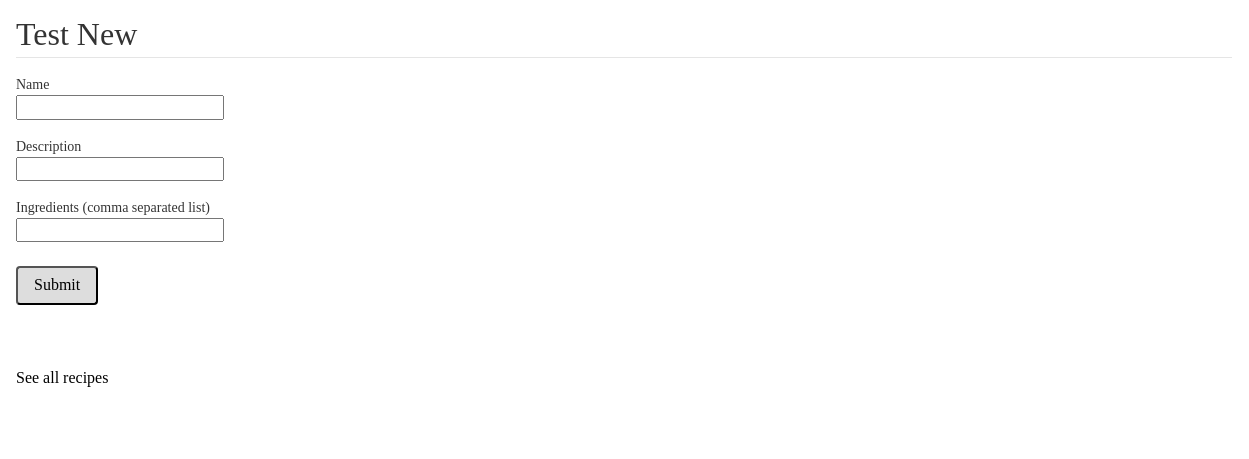
Test case: creates a new Recipe - happy path
Expected: the heading reads "Test New", x1=16 y1=16 x2=137 y2=52
Expected: the link reads "See all recipes", x1=16 y1=369 x2=124 y2=387
Step 1. Type "My favorite recipe" into the field labelled "Name" → (120, 107), box x1=16 y1=95 x2=224 y2=120
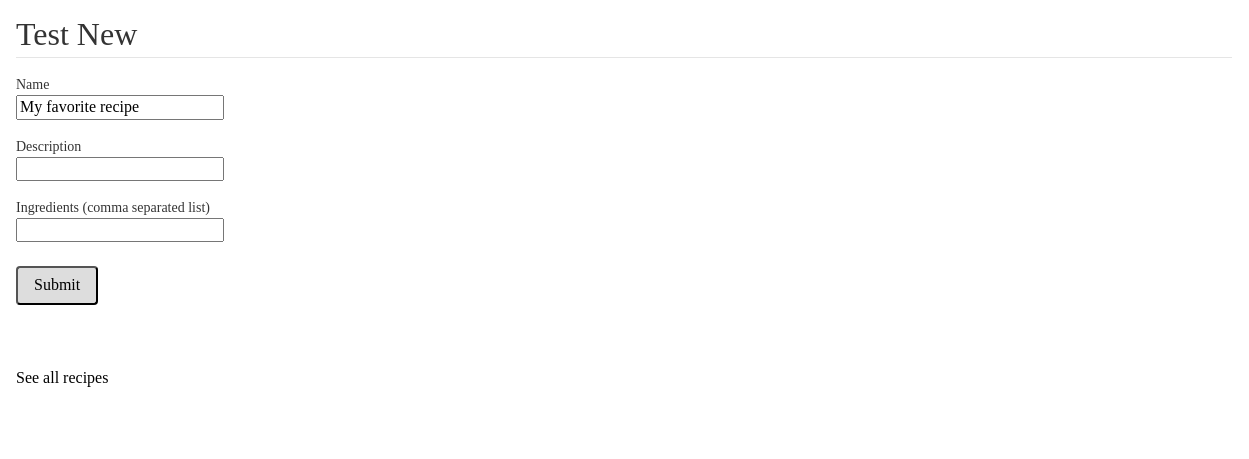
Step 2. Type "Easy, healthy, cheap, delicious" into the field labelled "Description" → (120, 169), box x1=16 y1=157 x2=224 y2=181
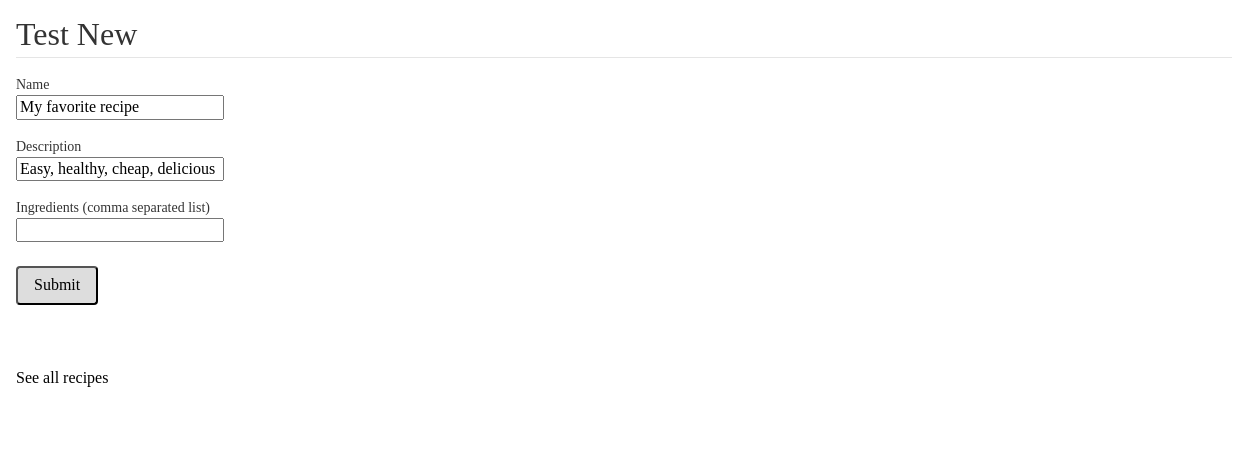
Step 3. Type "Secret ingredient" into the field labelled "Ingredients (comma separated list)" → (120, 230), box x1=16 y1=218 x2=224 y2=242
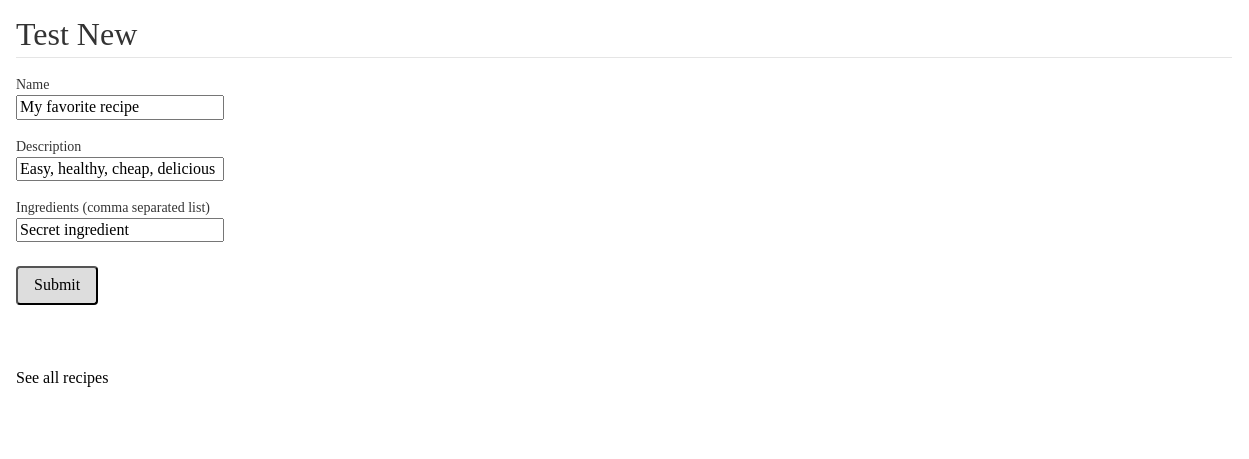
Step 4. Click the button → (57, 286), box x1=16 y1=266 x2=98 y2=305
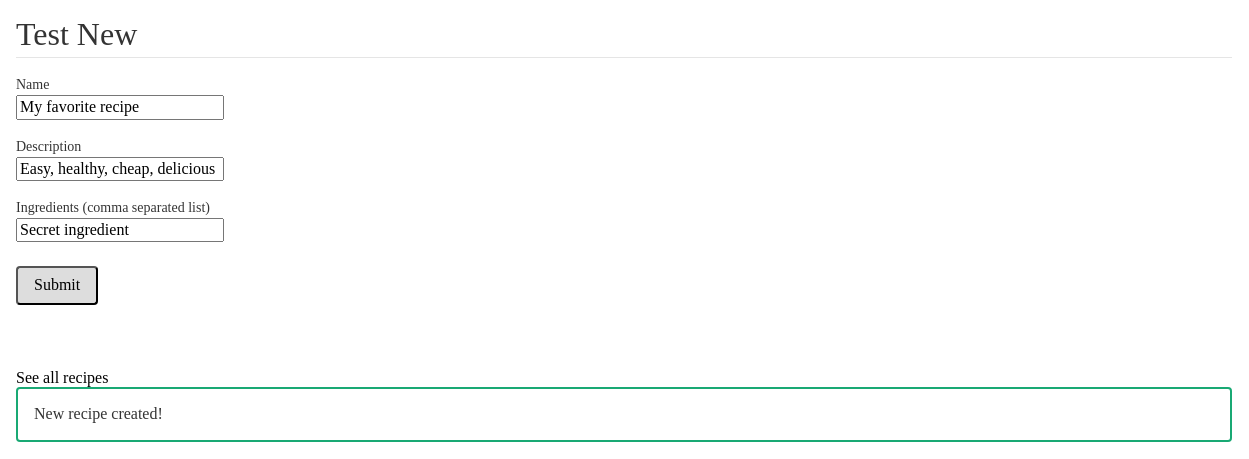
Result: the text "New recipe created!" is shown at x1=16 y1=387 x2=1232 y2=442
